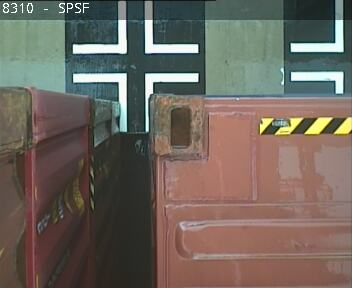groundmarker_1: (72, 71, 198, 132), (72, 1, 198, 54), (291, 1, 344, 93)
